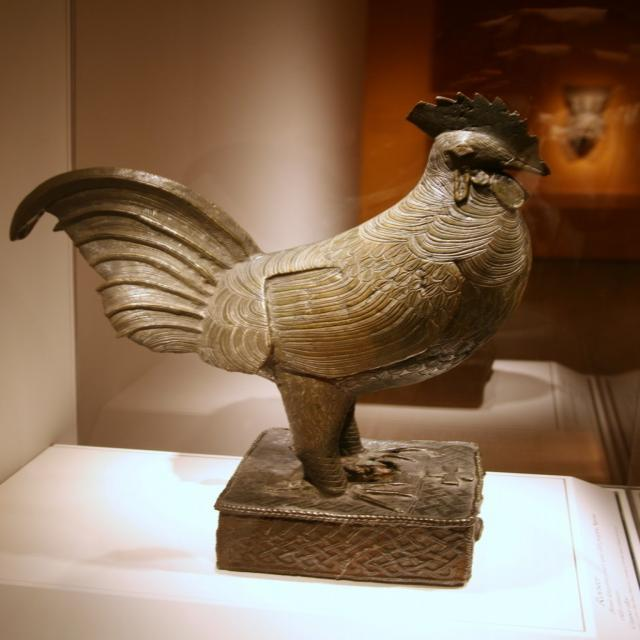Chicken: (6, 91, 548, 504)
